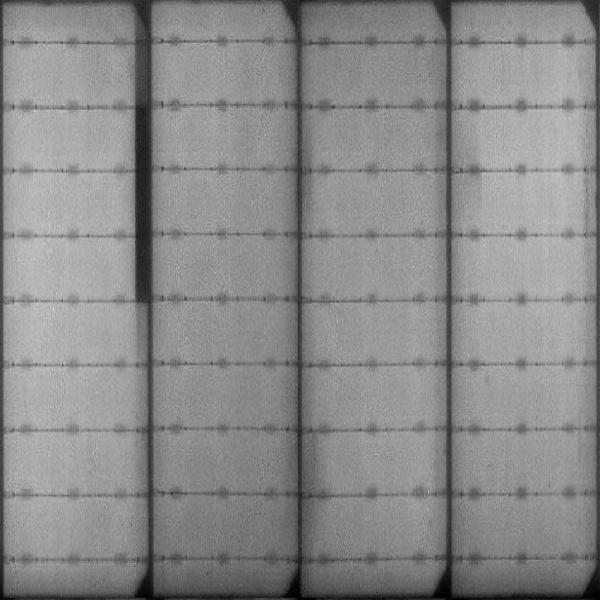black_border: (130, 22, 154, 306)
